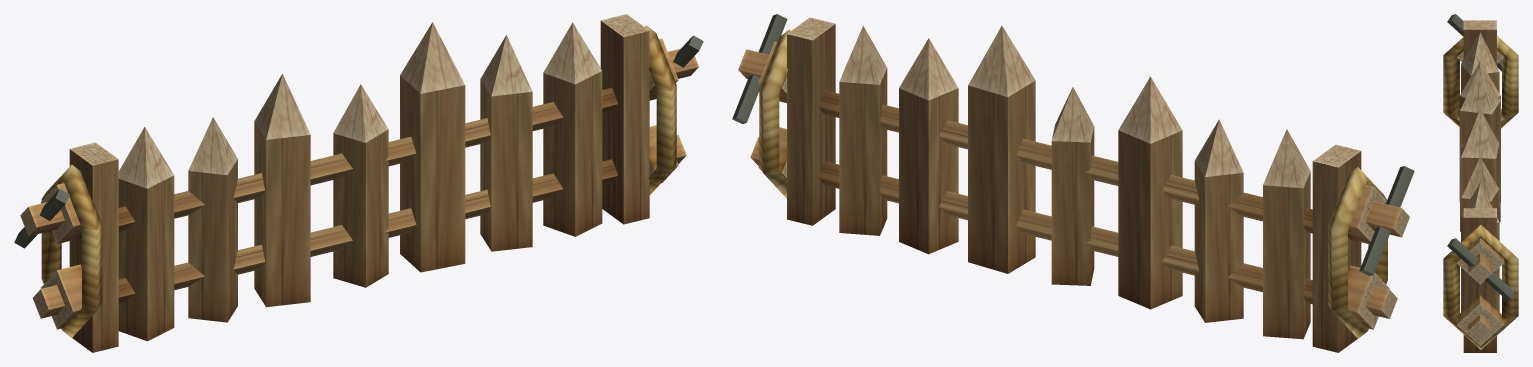
The model's file is DefenceDoor.FBX.
3 renders of one model, left to right at view 1: azimuth 30°, elevation 25°; view 2: azimuth 150°, elevation 25°; view 3: azimuth 270°, elevation 25°, orthographic. The views are drawn at different scales.
Visible parts, largest first — view 1: DefenceDoor, DefenceDoorPillar, DefenceDoorHandle; view 2: DefenceDoor, DefenceDoorPillar, DefenceDoorHandle; view 3: DefenceDoorPillar, DefenceDoor, DefenceDoorHandle.
Boxes of the visible parts, x1,y1,x2,y2 form: DefenceDoor: (118, 22, 617, 341); DefenceDoorPillar: (33, 14, 686, 352); DefenceDoorHandle: (14, 35, 703, 248); DefenceDoor: (818, 25, 1312, 339); DefenceDoorPillar: (750, 17, 1397, 352); DefenceDoorHandle: (732, 14, 1414, 275); DefenceDoorPillar: (1443, 20, 1518, 352); DefenceDoor: (1459, 32, 1500, 312); DefenceDoorHandle: (1447, 14, 1515, 299).
Size of the model in its own units: 471 by 162 by 64.
